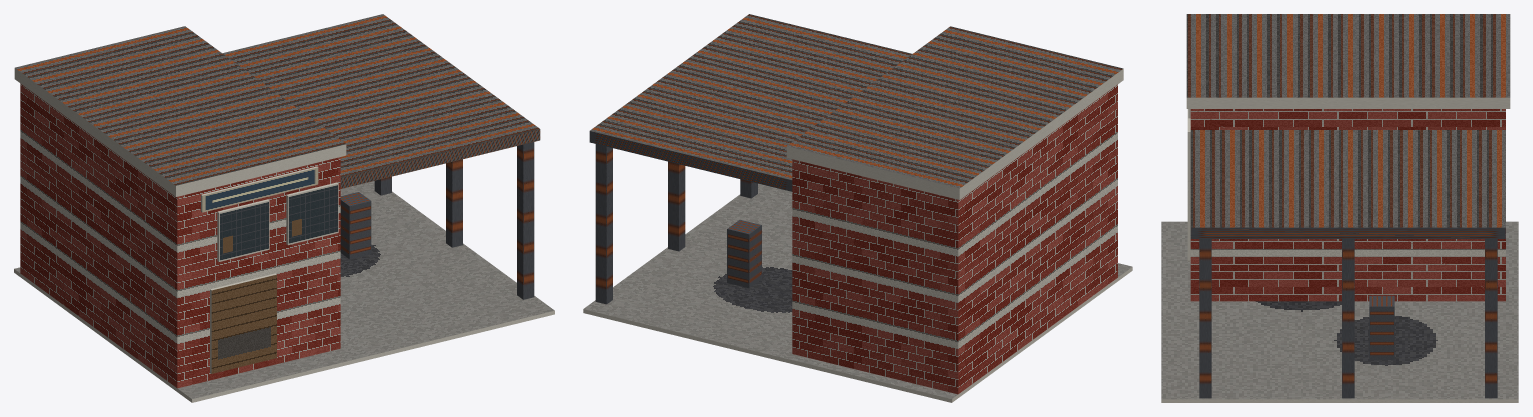
File: building_bus_station_02.glb
The picture shows the model from 3 angles, left to right: view 1: azimuth 30°, elevation 25°; view 2: azimuth 150°, elevation 25°; view 3: azimuth 270°, elevation 25°; orthographic projection.
Visible parts, largest first — view 1: Building_Bus_Station_02; view 2: Building_Bus_Station_02; view 3: Building_Bus_Station_02.
Boxes of the visible parts, bbox=[...] form: Building_Bus_Station_02: bbox=[14, 14, 554, 402]; Building_Bus_Station_02: bbox=[583, 14, 1132, 402]; Building_Bus_Station_02: bbox=[1161, 14, 1518, 402].
Bounding box in the file's own units: 10.1 × 5.5 × 8.5.
1 material, 1 textured.
